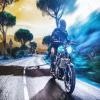motorcycles: (52, 43, 78, 98)
